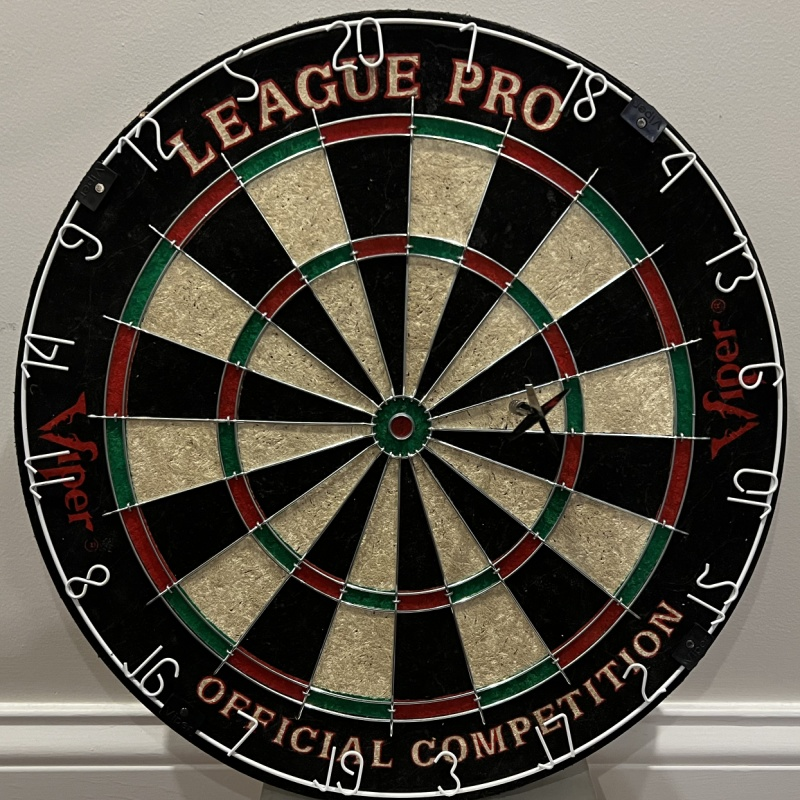dart: (505, 398, 532, 425)
eleven: (24, 448, 75, 502)
six: (736, 362, 786, 389)
three: (428, 752, 462, 795)
twenty: (329, 17, 383, 68)
